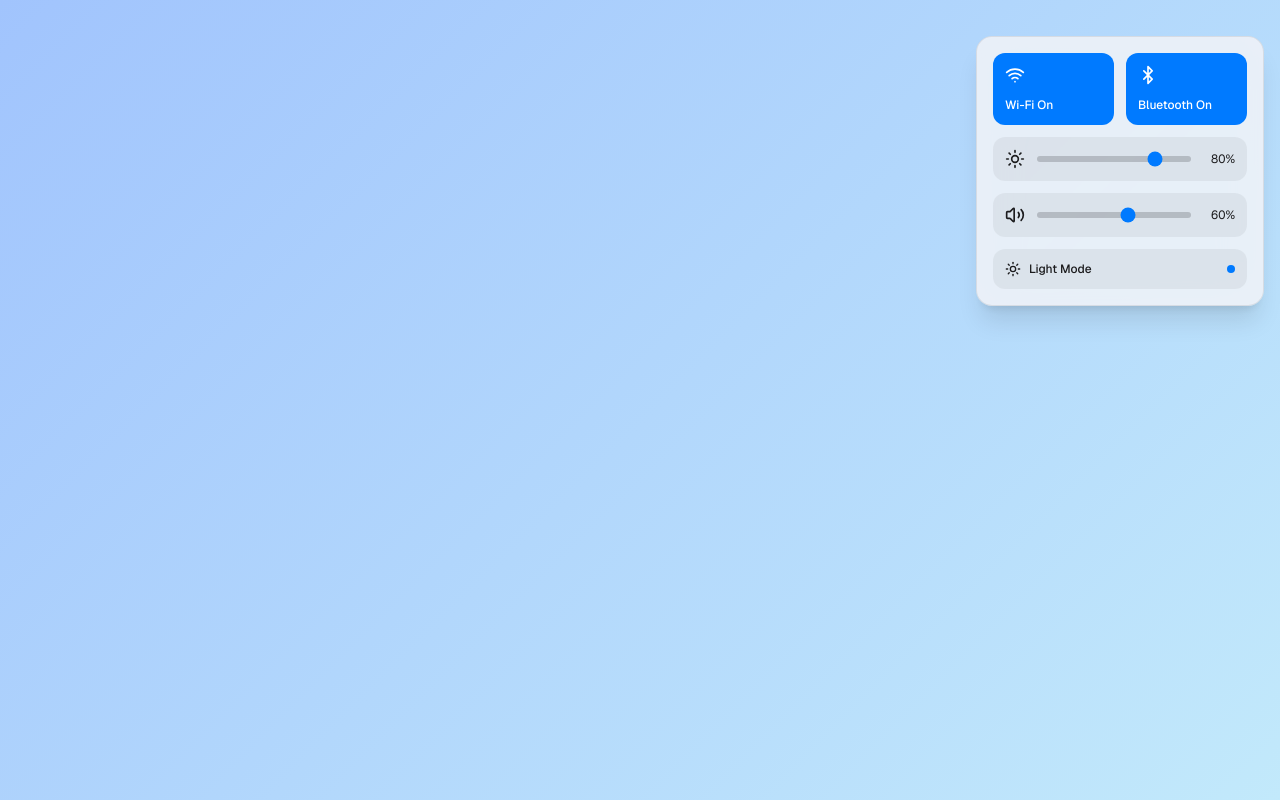
Test: ControlCenter › toggles Wi-Fi and Bluetooth labels
Check: the button with test id "cc-bluetooth" reads "Bluetooth On", box [1126, 53, 1247, 125]
Click the button with test id "cc-wifi" at (1054, 89), box [993, 53, 1114, 125]
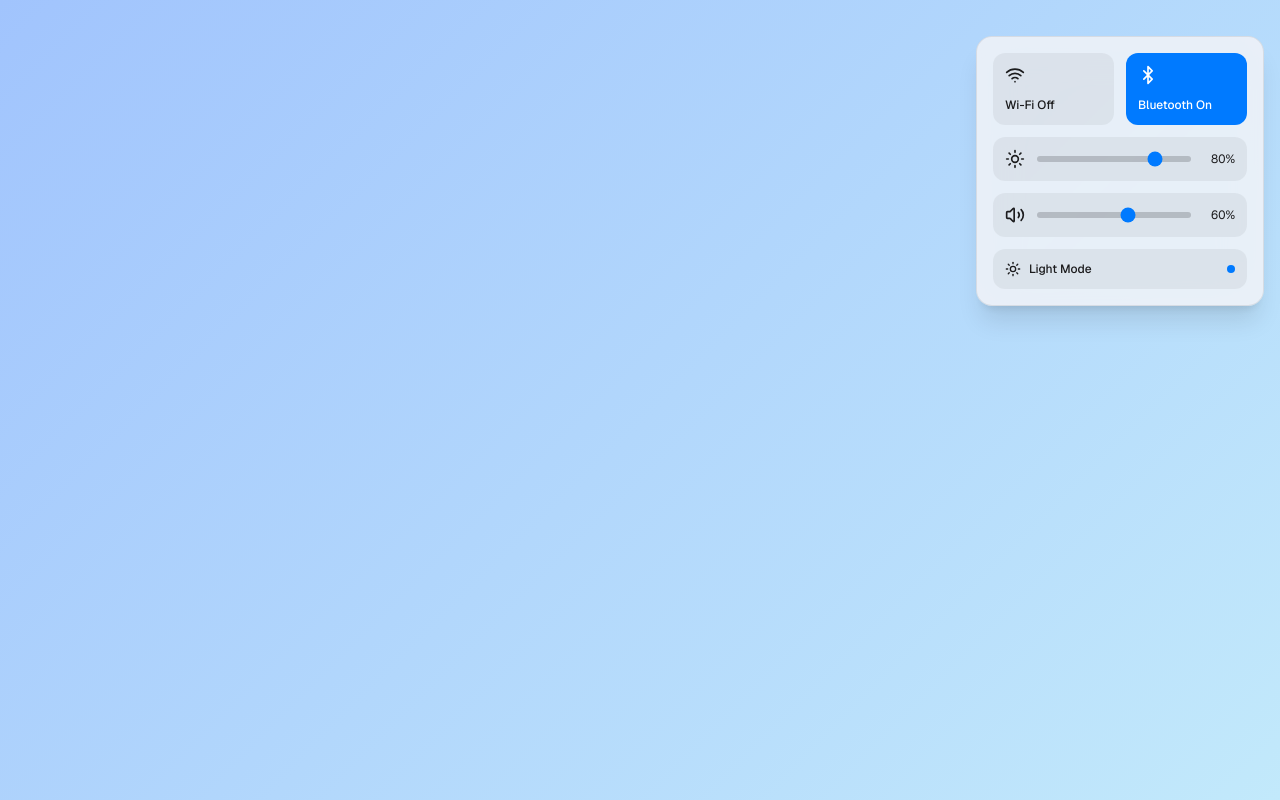
Check: the button with test id "cc-wifi" reads "Wi-Fi Off", box [993, 53, 1114, 125]
Click the button with test id "cc-bluetooth" at (1186, 89), box [1126, 53, 1247, 125]
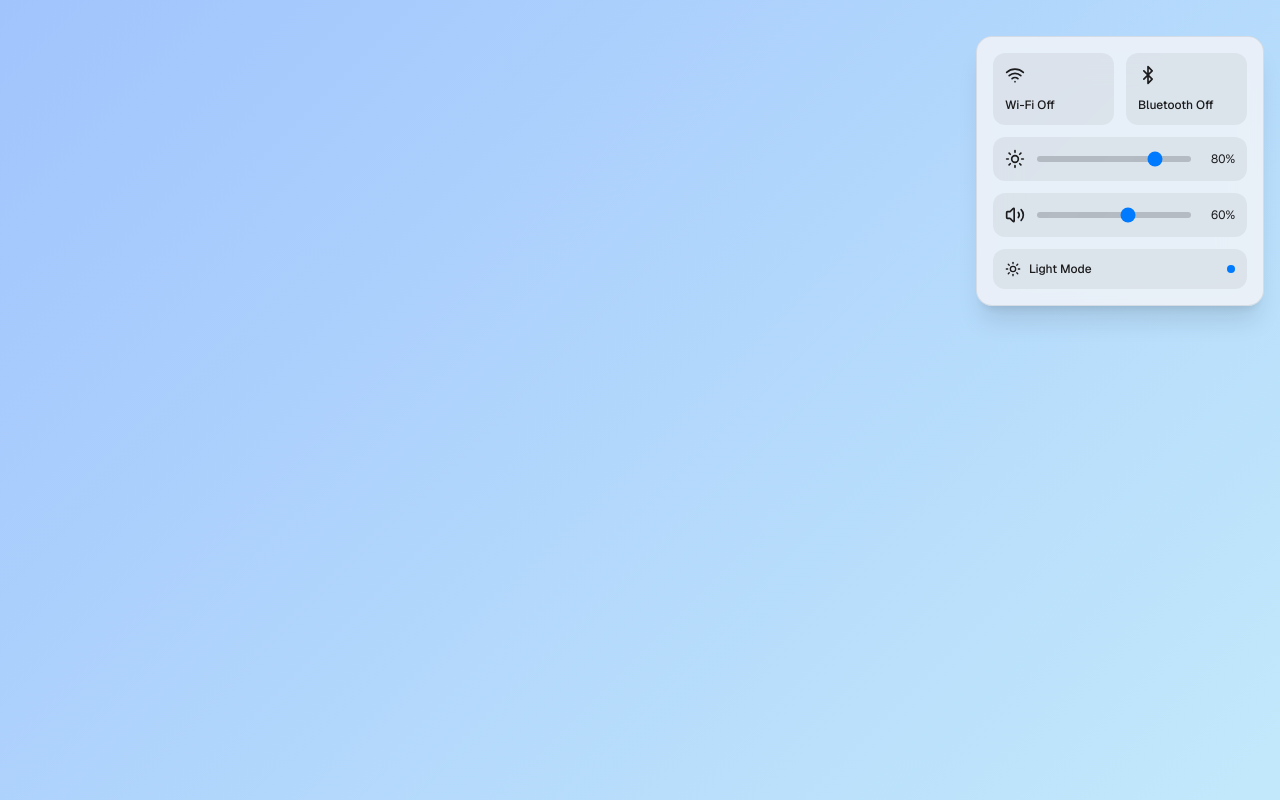
Check: the button with test id "cc-bluetooth" reads "Bluetooth Off", box [1126, 53, 1247, 125]
